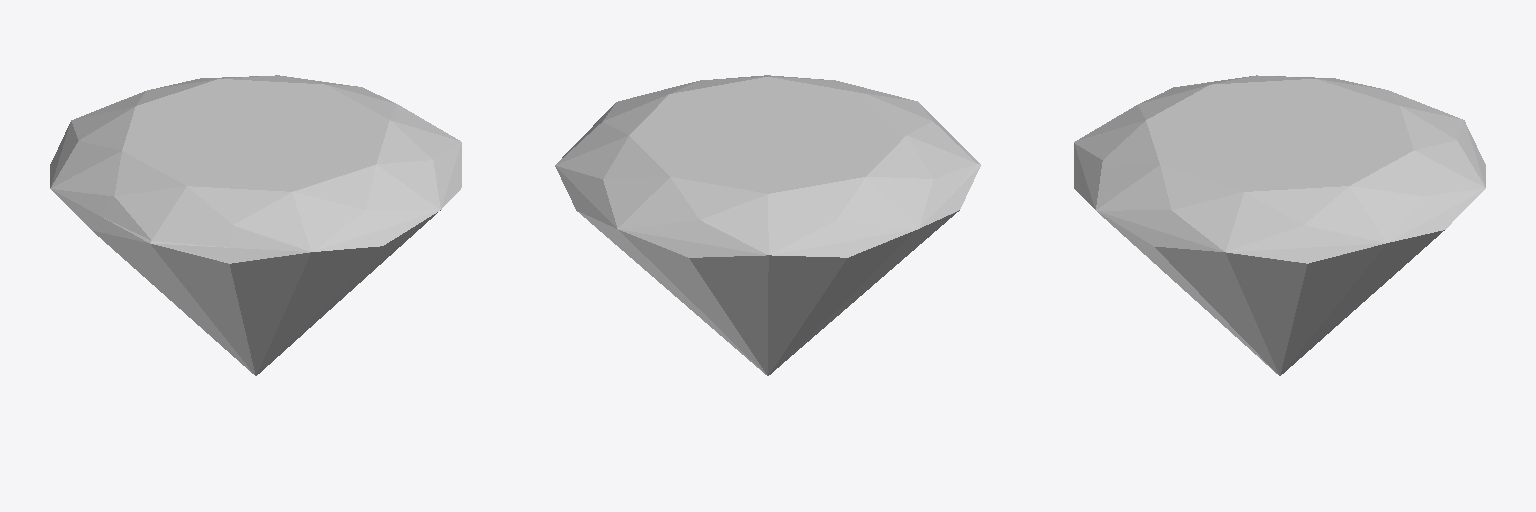
Rendered from diamond.obj.
3 views of the same model, side by side, from view 1: azimuth 30°, elevation 25°; view 2: azimuth 150°, elevation 25°; view 3: azimuth 270°, elevation 25° (orthographic).
Visible parts, largest first — view 1: Diamond_Cone; view 2: Diamond_Cone; view 3: Diamond_Cone.
Part boxes in pixels (bbox=[...]): Diamond_Cone: bbox=[50, 75, 461, 375]; Diamond_Cone: bbox=[555, 75, 980, 375]; Diamond_Cone: bbox=[1074, 75, 1485, 375].
Size of the model in its own units: 3.28 by 2.12 by 3.28.